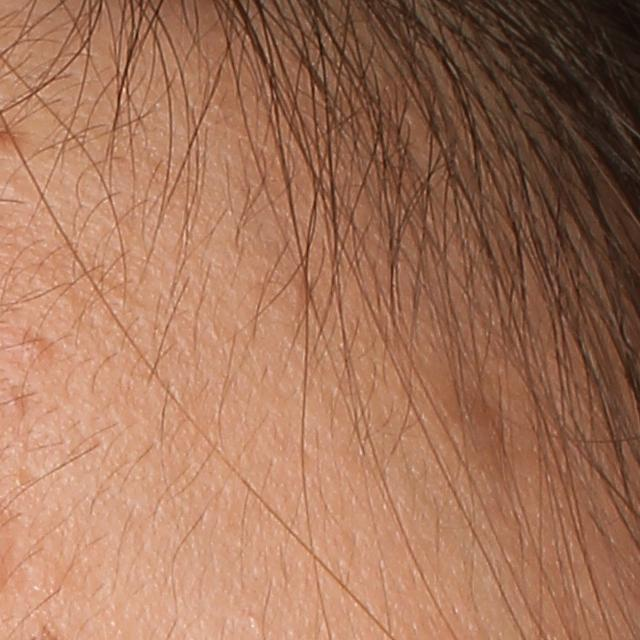comedo: (14, 333, 50, 369), (249, 613, 266, 635)
